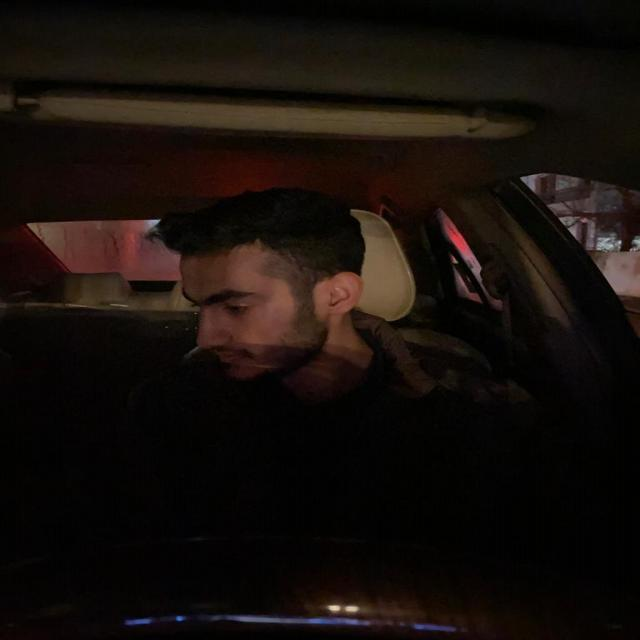person: (150, 194, 370, 376)
